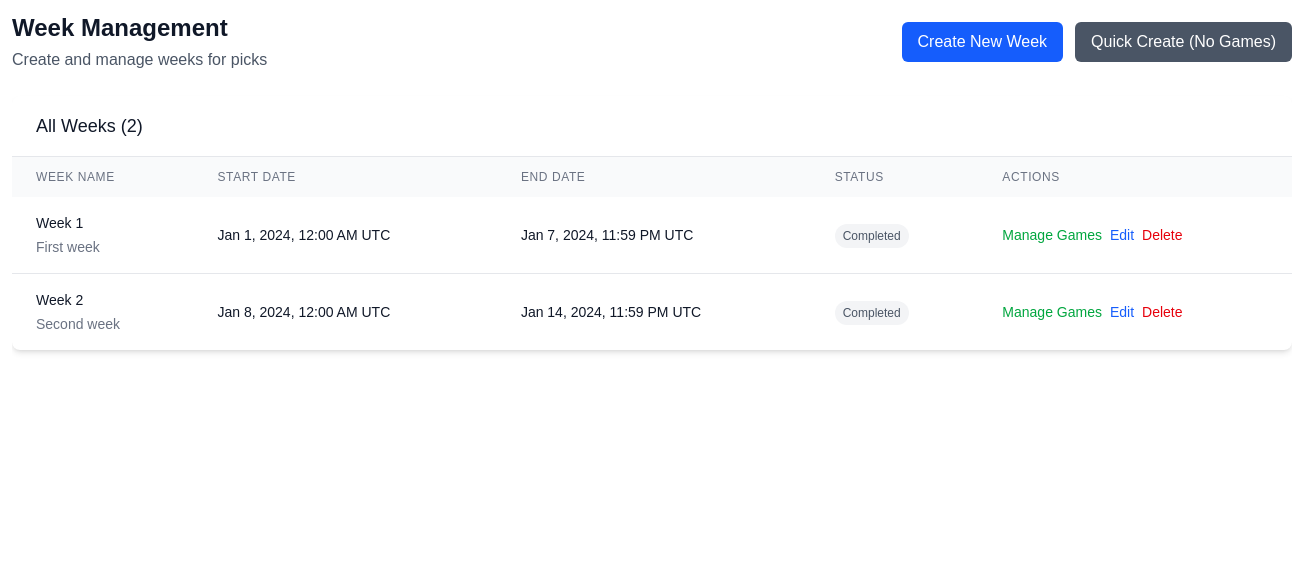
Scenario: WeekManagement › should close form when cancel button is clicked
Note: Open form
Click the button "Create New Week".
click(982, 42)  # box [902, 22, 1063, 62]
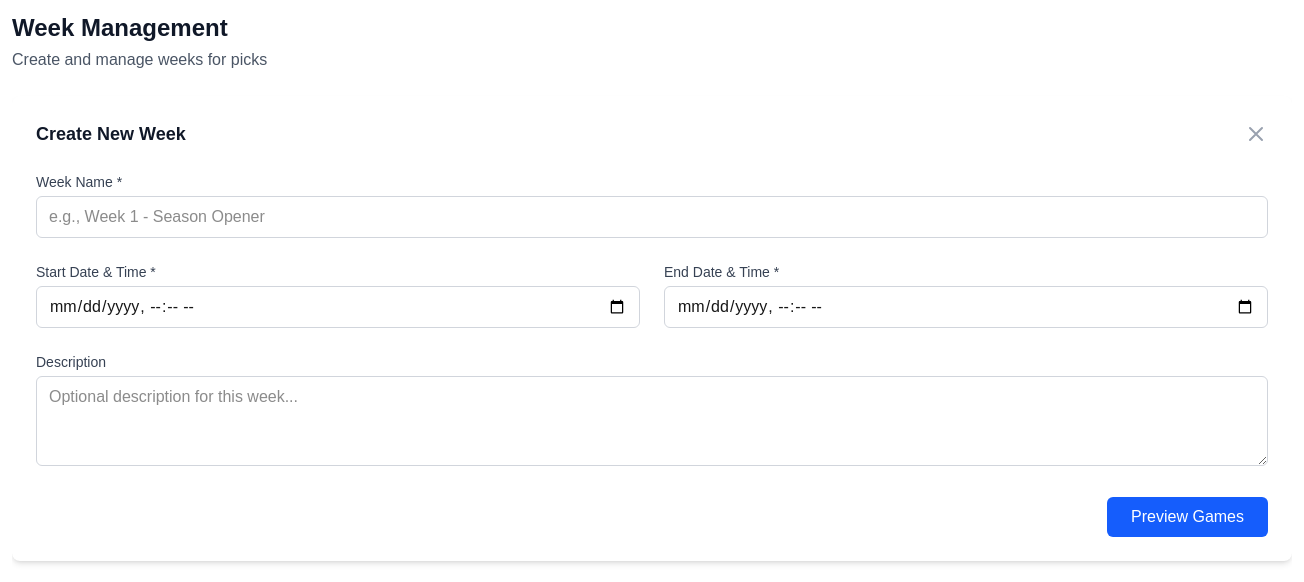
Note: Close form
Click the 1st button.
click(1256, 134)  # box [1244, 122, 1268, 146]
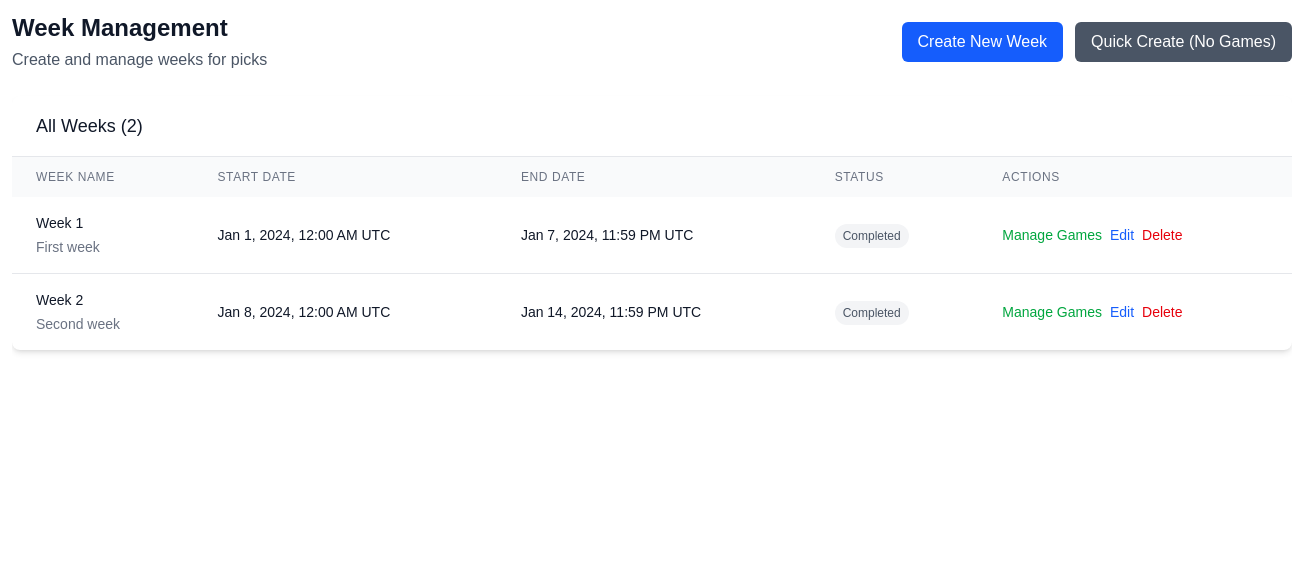
Now the element with test id "week-list" is shown, box [12, 96, 1292, 350]
